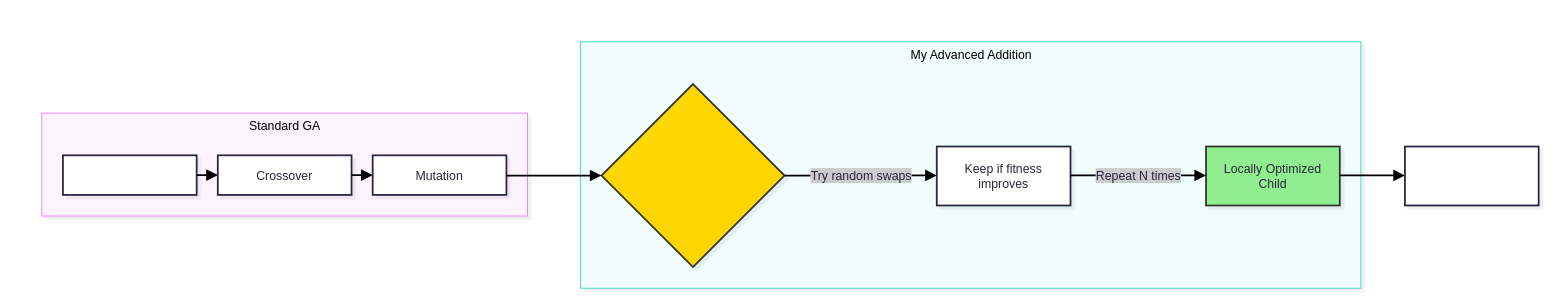
This 1558x307 diagram has some shape labels left out. Here are the shapes that lost their labels. From the top down, the centre of each, then its label:
At point (131, 176): "Parent Selection".
At point (694, 177): "Local Search / Hill Climbing".
At point (1473, 177): "Fitness Evaluation".
